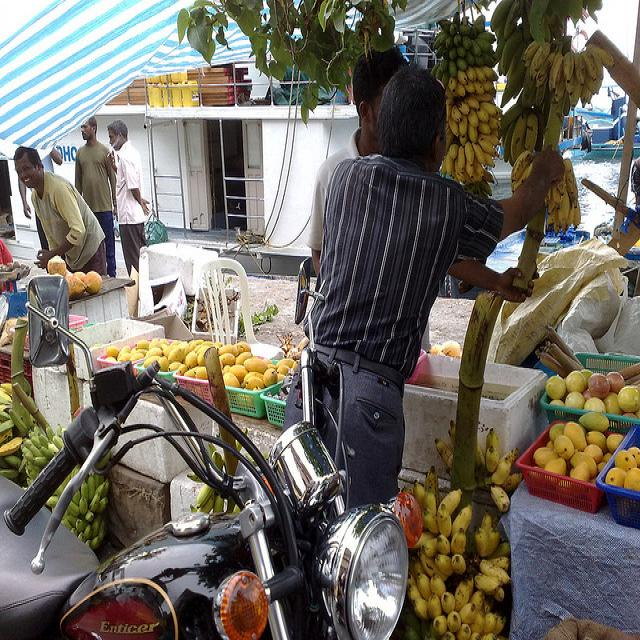motor: (1, 255, 422, 630)
